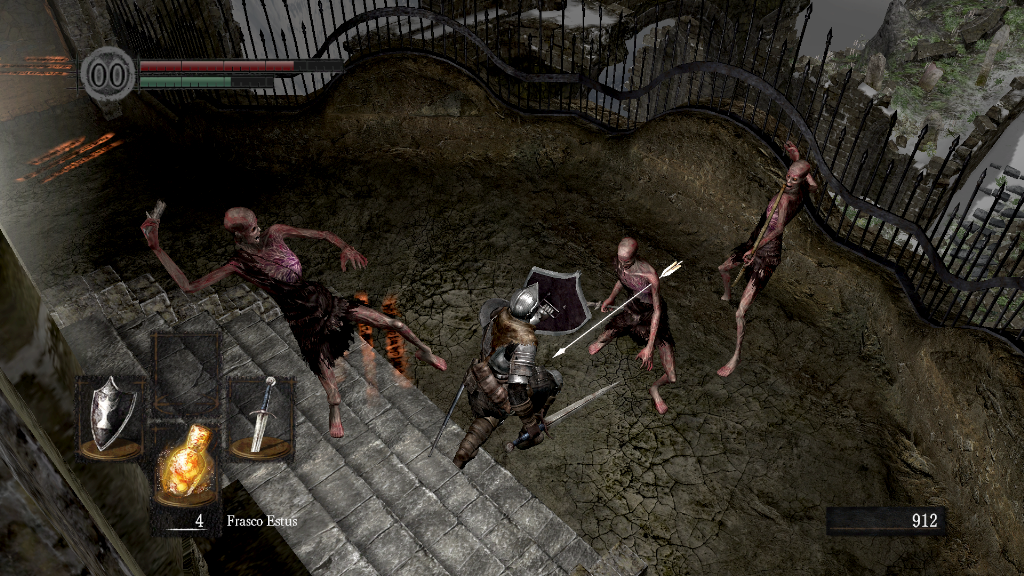health: (138, 58, 343, 71)
hollow: (136, 197, 452, 441), (712, 139, 820, 381), (591, 235, 681, 428)
humanity: (80, 45, 136, 102)
player: (429, 264, 619, 470)
souls: (825, 506, 945, 536)
stamina: (138, 74, 274, 88)
